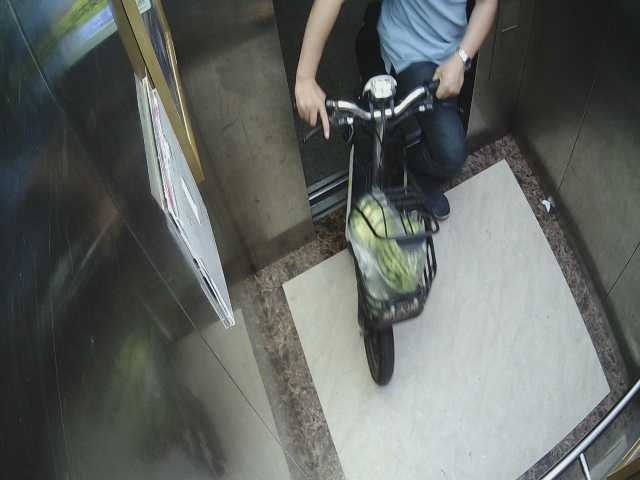emotor: (313, 44, 462, 390)
